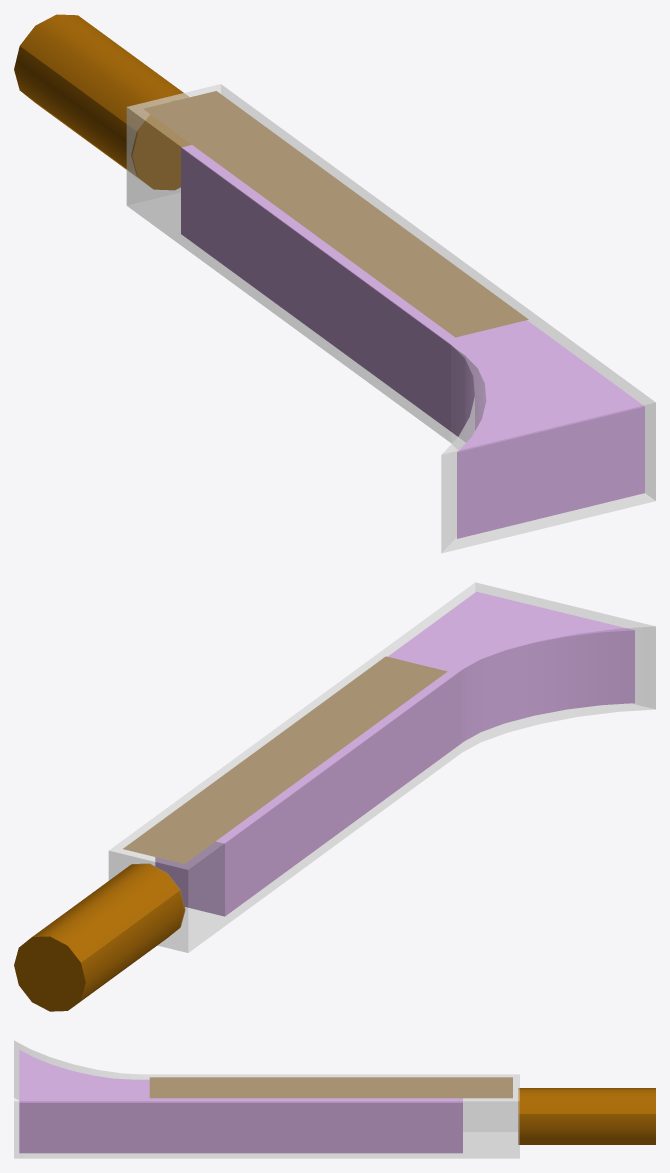
File: Bottled Bollet Voenni.fbx
3 renders of one model, top to bottom at view 1: azimuth 30°, elevation 25°; view 2: azimuth 150°, elevation 25°; view 3: azimuth 270°, elevation 25°, orthographic. The views are drawn at different scales.
Visible parts, largest first — view 1: Bottled Bollet Voenni; view 2: Bottled Bollet Voenni; view 3: Bottled Bollet Voenni.
Part boxes in pixels (bbox=[...]): Bottled Bollet Voenni: bbox=[14, 14, 655, 553]; Bottled Bollet Voenni: bbox=[14, 582, 655, 1011]; Bottled Bollet Voenni: bbox=[14, 1040, 655, 1158].
Bounding box in the file's own units: 14.49 × 6.37 × 64.59.
